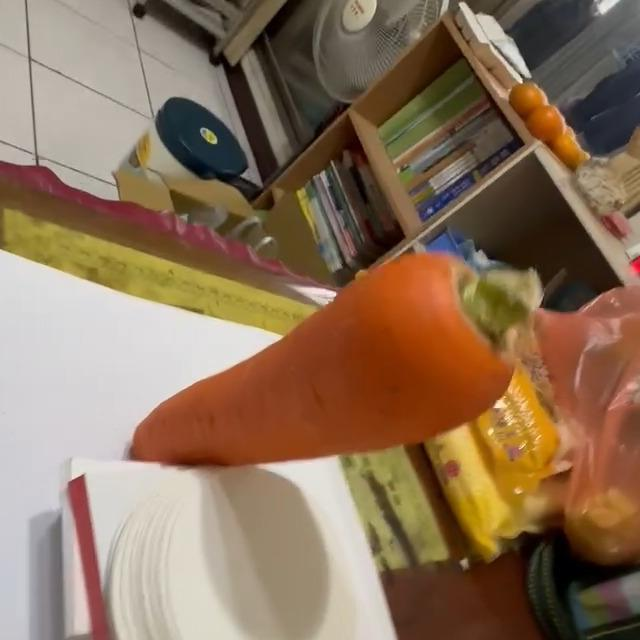carrot: (130, 252, 537, 467)
